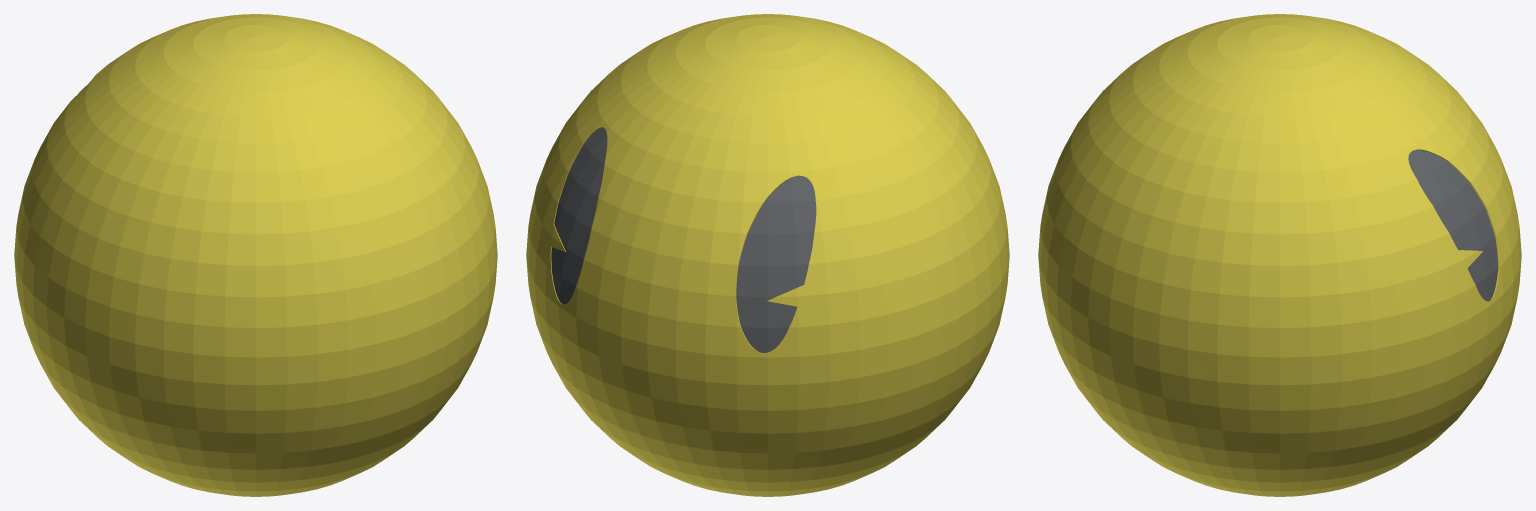
Rendered from PacMan.glb.
3 renders of one model, left to right at view 1: azimuth 30°, elevation 25°; view 2: azimuth 150°, elevation 25°; view 3: azimuth 270°, elevation 25°, orthographic.
Parts seen in each view (by area): view 1: Mesh_Mesh_head_geo.001_lambert2SG.001; view 2: Mesh_Mesh_head_geo.001_lambert2SG.001; view 3: Mesh_Mesh_head_geo.001_lambert2SG.001.
Part boxes in pixels (x1,y1,x2,y2): Mesh_Mesh_head_geo.001_lambert2SG.001: [14, 14, 497, 496]; Mesh_Mesh_head_geo.001_lambert2SG.001: [526, 14, 1009, 496]; Mesh_Mesh_head_geo.001_lambert2SG.001: [1038, 14, 1521, 496].
Size of the model in its own units: 20 by 20 by 20.
